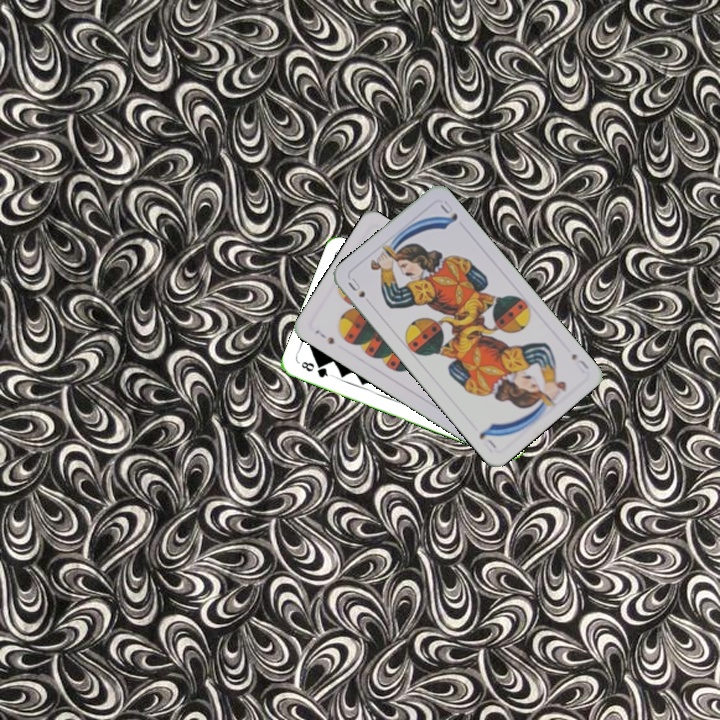G8: (297, 357, 334, 380)
S7: (311, 326, 337, 347)
SU: (344, 274, 375, 308), (567, 349, 592, 376)
